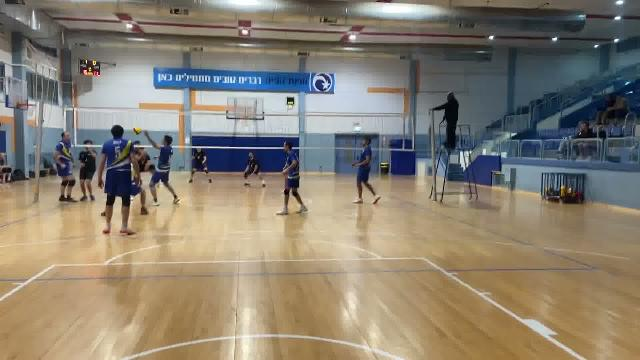ball: (129, 125, 140, 138)
